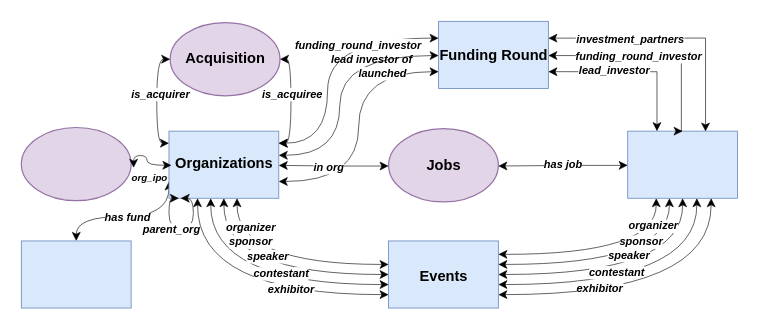
Some shapes in this 759 by 329 pixel diagram are drawn without their labels. Each missing label, with the centre of its shape:
"Funds" belongs at point 75,274.
"IPOS" belongs at point 75,163.
"Person" belongs at point 682,164.
